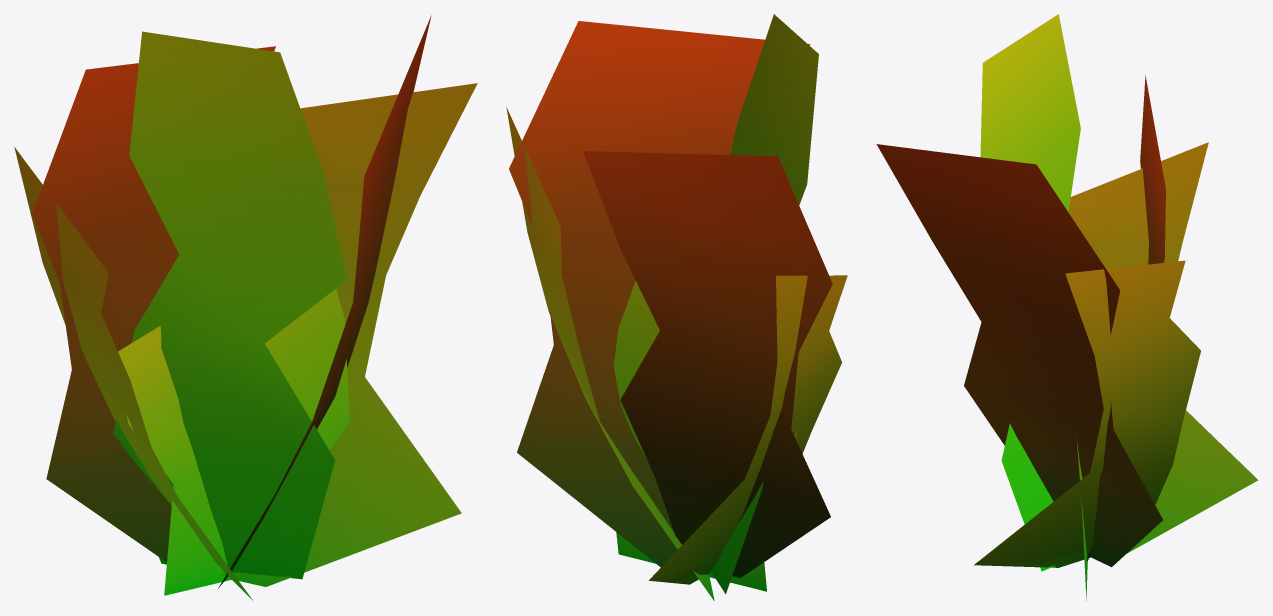
The model's file is Var8Hi27.fbx.
The picture shows the model from 3 angles, left to right: view 1: azimuth 30°, elevation 25°; view 2: azimuth 150°, elevation 25°; view 3: azimuth 270°, elevation 25°; orthographic projection. The views are drawn at different scales.
Parts seen in each view (by area): view 1: bend1; view 2: bend1; view 3: bend1.
Boxes of the visible parts, bbox=[...] form: bend1: bbox=[14, 15, 477, 600]; bend1: bbox=[506, 14, 847, 600]; bend1: bbox=[876, 14, 1258, 600].
Bounding box in the file's own units: 1.26 × 1.76 × 1.21.
